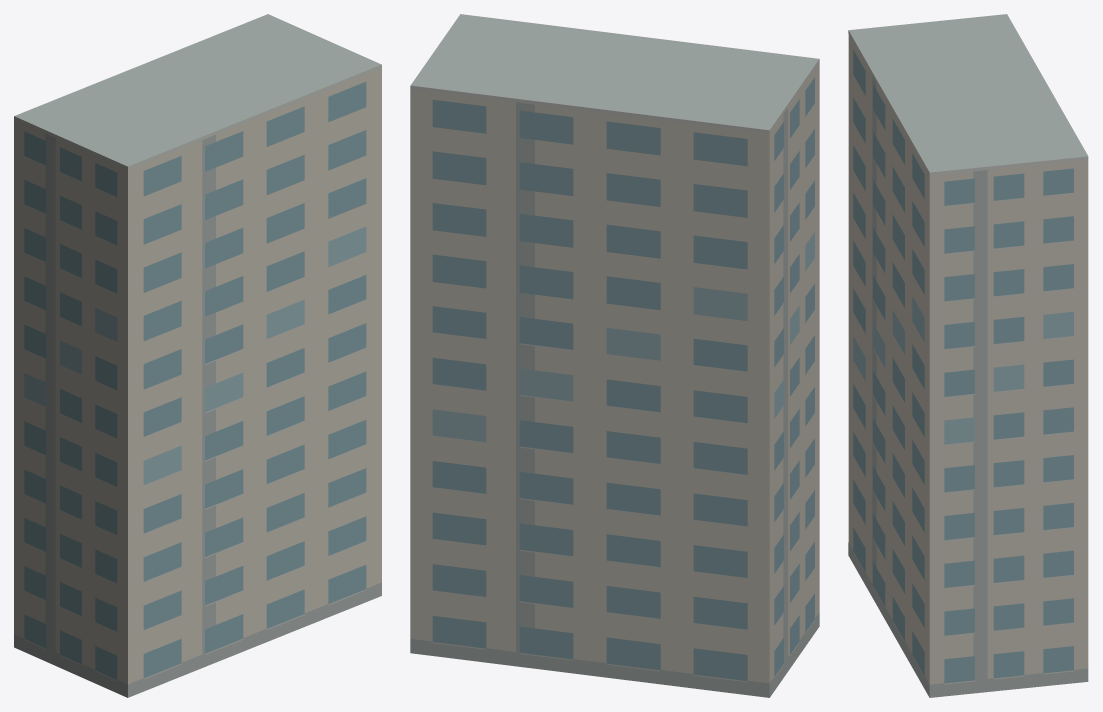
The model's file is residential-db5b7357-78f7-4d6b-b18f-b7268d22ab87.glb.
3 renders of one model, left to right at view 1: azimuth 30°, elevation 25°; view 2: azimuth 150°, elevation 25°; view 3: azimuth 270°, elevation 25°, orthographic. The views are drawn at different scales.
Parts seen in each view (by area): view 1: residential-db5b7357-78f7-4d6b-b18f-b7268d22ab87.tmp; view 2: residential-db5b7357-78f7-4d6b-b18f-b7268d22ab87.tmp; view 3: residential-db5b7357-78f7-4d6b-b18f-b7268d22ab87.tmp.
Part boxes in pixels (x1,y1,x2,y2): residential-db5b7357-78f7-4d6b-b18f-b7268d22ab87.tmp: [14, 14, 381, 697]; residential-db5b7357-78f7-4d6b-b18f-b7268d22ab87.tmp: [410, 14, 819, 697]; residential-db5b7357-78f7-4d6b-b18f-b7268d22ab87.tmp: [848, 14, 1088, 697].
Size of the model in its own units: 24.6 by 38 by 15.74.
